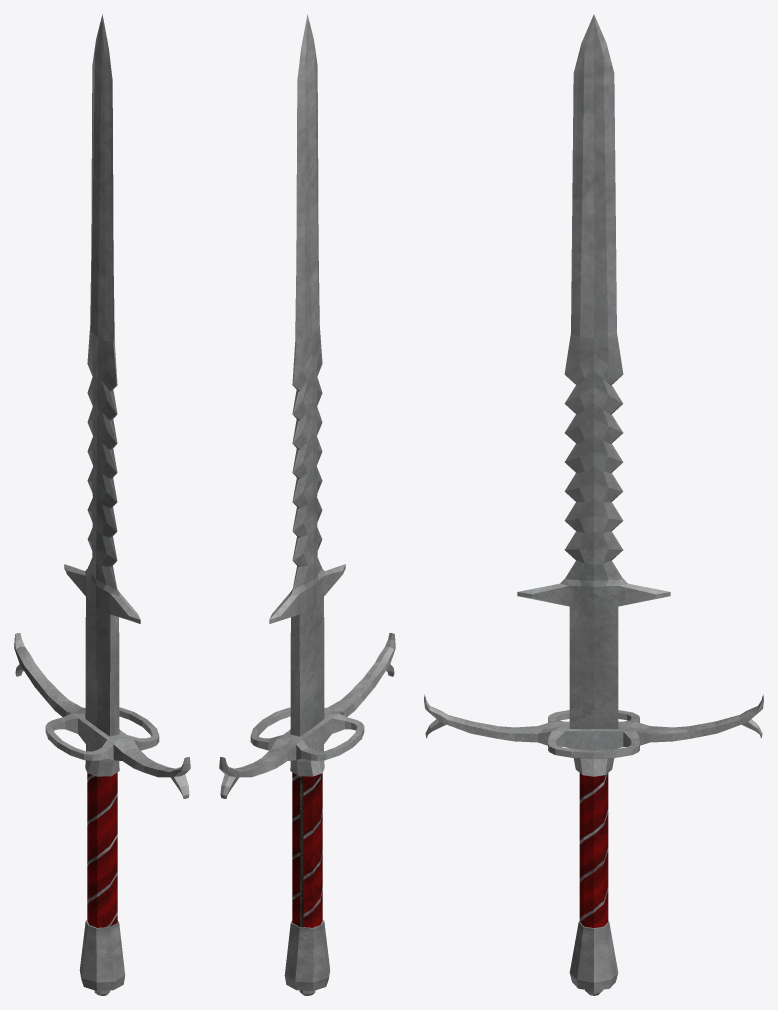
Rendered from greatsword_002.fbx.
3 views of the same model, side by side, from view 1: azimuth 30°, elevation 25°; view 2: azimuth 150°, elevation 25°; view 3: azimuth 270°, elevation 25° (orthographic).
Parts seen in each view (by area): view 1: bLADE; view 2: bLADE; view 3: bLADE.
Boxes of the visible parts, bbox=[...] form: bLADE: bbox=[14, 14, 190, 995]; bLADE: bbox=[219, 14, 395, 995]; bLADE: bbox=[424, 14, 763, 995].
Size of the model in its own units: 24.86 by 257 by 80.94.
Materials: 4 (4 with a texture image).
